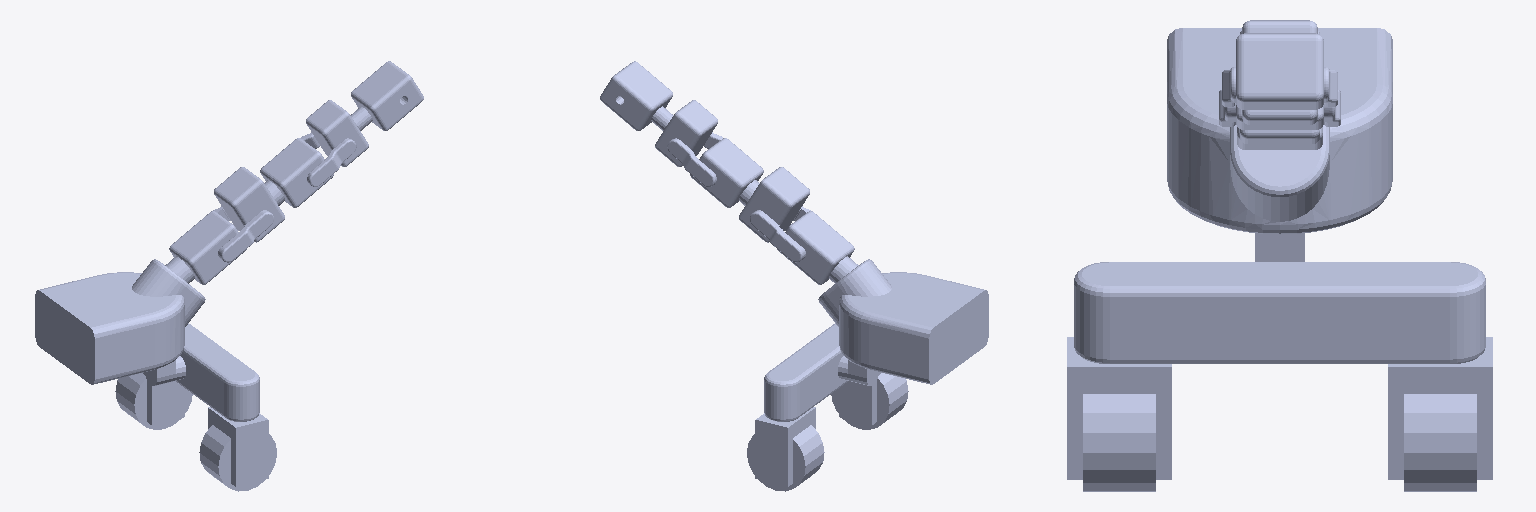
The robot description file, URDF, robot "LRM_ARM_60_0_1":
<?xml version="1.0" encoding="utf-8"?>
<!-- This URDF was automatically created by SolidWorks to URDF Exporter! Originally created by [author] ([email redacted]) 
     Commit Version: 1.6.0-4-g7f85cfe  Build Version: 1.6.7995.38578
     For more information, please see http://wiki.ros.org/sw_urdf_exporter -->
<robot
  name="LRM_ARM_60_0_1">
  <link
    name="base_link">
    <inertial>
      <origin
        xyz="-0.048104206841079 -4.90111673467908E-09 0.143557530418976"
        rpy="0 0 0" />
      <mass
        value="4.97178975391731" />
      <inertia
        ixx="0.0286525742966097"
        ixy="-5.05387354171124E-10"
        ixz="0.00709494743952162"
        iyy="0.0279823571540364"
        iyz="1.30205099336314E-09"
        izz="0.0260130342872084" />
    </inertial>
    <visual>
      <origin
        xyz="0 0 0"
        rpy="0 0 0" />
      <geometry>
        <mesh
          filename="package://meshes/base_link.STL" />
      </geometry>
      <material
        name="">
        <color
          rgba="0.792156862745098 0.819607843137255 0.933333333333333 1" />
      </material>
    </visual>
    <collision>
      <origin
        xyz="0 0 0"
        rpy="0 0 0" />
      <geometry>
        <mesh
          filename="package://meshes/base_link.STL" />
      </geometry>
    </collision>
  </link>
  <link
    name="link1">
    <inertial>
      <origin
        xyz="0 1.1102E-16 0.040987"
        rpy="0 0 0" />
      <mass
        value="0.17564" />
      <inertia
        ixx="0.00015754"
        ixy="-1.1079E-12"
        ixz="3.3034E-19"
        iyy="0.00014648"
        iyz="-6.7145E-20"
        izz="5.8551E-05" />
    </inertial>
    <visual>
      <origin
        xyz="0 0 0"
        rpy="0 0 0" />
      <geometry>
        <mesh
          filename="package://meshes/link1.STL" />
      </geometry>
      <material
        name="">
        <color
          rgba="0.79216 0.81961 0.93333 1" />
      </material>
    </visual>
    <collision>
      <origin
        xyz="0 0 0"
        rpy="0 0 0" />
      <geometry>
        <mesh
          filename="package://meshes/link1.STL" />
      </geometry>
    </collision>
  </link> 
  <joint
    name="joint1"
    type="revolute">
    <!--origin
      xyz="0 0 0.23432"
      rpy="0 0.7854 0" /-->
    <origin
      xyz="0 0 0.23432"
      rpy="0 1.0472 0" />
    <parent
      link="base_link" />
    <child
      link="link1" />
    <axis
      xyz="0 0 -1" />
    <limit
      lower="-1.7453"
      upper="1.7453"
      effort="4"
      velocity="0.12" />
  </joint>
  <link
    name="link2">
    <inertial>
      <origin
        xyz="-0.0088338 0.053407 1.8248E-08"
        rpy="0 0 0" />
      <mass
        value="0.16897" />
      <inertia
        ixx="0.00012053"
        ixy="1.0916E-05"
        ixz="1.3718E-11"
        iyy="0.00011686"
        iyz="4.5225E-11"
        izz="0.00012323" />
    </inertial>
    <visual>
      <origin
        xyz="0 0 0"
        rpy="0 0 0" />
      <geometry>
        <mesh
          filename="package://meshes/link2.STL" />
      </geometry>
      <material
        name="">
        <color
          rgba="0.79216 0.81961 0.93333 1" />
      </material>
    </visual>
    <collision>
      <origin
        xyz="0 0 0"
        rpy="0 0 0" />
      <geometry>
        <mesh
          filename="package://meshes/link2.STL" />
      </geometry>
    </collision>
  </link>
  <joint
    name="joint2"
    type="revolute"> <!-- 0.057205 -->
    <origin
      xyz="0 0 0.057205"
      rpy="1.5708 0 0" />
    <parent
      link="link1" />
    <child
      link="link2" />
    <axis
      xyz="0 0 1" />
    <limit
      lower="-1.7453"
      upper="1.7453"
      effort="4"
      velocity="0.12" />
  </joint>
  <link
    name="link3">
    <inertial> 
      <origin 
        xyz="-1.3878E-17 2.7756E-17 0.039326" 
        rpy="0 0 0" />
      <mass
        value="0.14908" />
      <inertia
        ixx="0.00010055"
        ixy="-1.1452E-12"
        ixz="1.135E-19"
        iyy="8.9207E-05"
        iyz="-3.4301E-20"
        izz="5.2789E-05" />
    </inertial>
    <visual>
      <origin
        xyz="0 0 0"
        rpy="0 0 0" />
      <geometry>
        <mesh
          filename="package://meshes/link3.STL" />
      </geometry>
      <material
        name="">
        <color
          rgba="0.79216 0.81961 0.93333 1" />
      </material>
    </visual>
    <collision>
      <origin
        xyz="0 0 0"
        rpy="0 0 0" />
      <geometry>
        <mesh
          filename="package://meshes/link3.STL" />
      </geometry>
    </collision>
  </link>
  <joint
    name="joint3" 
    type="revolute"> <!-- 0.08 -->
    <origin
      xyz="0 0.084805 0"
      rpy="-1.5708 0 0" />
    <parent
      link="link2" />
    <child
      link="link3" />
    <axis
      xyz="0 0 1" />
    <limit
      lower="-1.7453"
      upper="1.7453"
      effort="4"
      velocity="0.12" />
  </joint>
  <link
    name="link4"> 
    <inertial>
      <origin
        xyz="-0.005085 0.050535 -4.7282E-09"
        rpy="0 0 0" />
      <mass
        value="0.12789" />
      <inertia
        ixx="8.353E-05"
        ixy="4.6009E-06"
        ixz="7.7732E-12"
        iyy="7.3696E-05"
        iyz="-7.8057E-12"
        izz="8.0339E-05" />
    </inertial>
    <visual>
      <origin
        xyz="0 0 0"
        rpy="0 0 0" />
      <geometry>
        <mesh
          filename="package://meshes/link4.STL" />
      </geometry>
      <material
        name="">
        <color
          rgba="0.79216 0.81961 0.93333 1" />
      </material>
    </visual>
    <collision>
      <origin
        xyz="0 0 0"
        rpy="0 0 0" />
      <geometry>
        <mesh
          filename="package://meshes/link4.STL" />
      </geometry>
    </collision>
  </link>
  <joint
    name="joint4"
    type="revolute"> 
    <origin
      xyz="0 0 0.05207"
      rpy="1.5708 0 0" />
    <parent
      link="link3" />
    <child
      link="link4" />
    <axis
      xyz="0 0 -1" />
    <limit
      lower="-1.7453"
      upper="1.7453"
      effort="4"
      velocity="0.12" />
  </joint>
  <link
    name="link5">
    <inertial>
      <origin
        xyz="0 -2.7756E-17 0.041131"
        rpy="0 0 0" />
      <mass
        value="0.14106" />
      <inertia
        ixx="8.804E-05"
        ixy="-5.4409E-21"
        ixz="-1.6941E-20"
        iyy="7.669E-05"
        iyz="7.3341E-21"
        izz="5.1307E-05" />
    </inertial>
    <visual>
      <origin
        xyz="0 0 0"
        rpy="0 0 0" />
      <geometry>
        <mesh
          filename="package://meshes/link5.STL" />
      </geometry>
      <material
        name="">
        <color
          rgba="0.79216 0.81961 0.93333 1" />
      </material>
    </visual>
    <collision>
      <origin
        xyz="0 0 0"
        rpy="0 0 0" />
      <geometry>
        <mesh
          filename="package://meshes/link5.STL" />
      </geometry>
    </collision>
  </link>
  <joint
    name="joint5"
    type="revolute"> <!-- 0.07 -->
    <origin
      xyz="0 0.08822 0"
      rpy="-1.5708 0 0" />
    <parent
      link="link4" />
    <child
      link="link5" />
    <axis
      xyz="0 0 1" />
    <limit
      lower="-1.7453"
      upper="1.7453"
      effort="4"
      velocity="0.12" />
  </joint>
  <link
    name="link6">
    <inertial>
      <origin
        xyz="-0.0020164 0.062208 -2.7756E-17"
        rpy="0 0 0" />
      <mass
        value="0.10776" />
      <inertia
        ixx="0.00013214"
        ixy="-1.3313E-06"
        ixz="-1.4382E-20"
        iyy="6.5688E-05"
        iyz="1.8781E-20"
        izz="8.1577E-05" />
    </inertial>
    <visual>
      <origin
        xyz="0 0 0"
        rpy="0 0 0" />
      <geometry>
        <mesh
          filename="package://link6.STL" />
      </geometry>
      <material
        name="">
        <color
          rgba="0.79216 0.81961 0.93333 1" />
      </material>
    </visual>
    <collision>
      <origin
        xyz="0 0 0"
        rpy="0 0 0" />
      <geometry>
        <mesh
          filename="package://link6.STL" />
      </geometry>
    </collision>
  </link>
  <joint
    name="joint6"
    type="revolute">
    <origin
      xyz="0 0 0.05178"
      rpy="1.5708 0 0" />
    <parent
      link="link5" />
    <child
      link="link6" />
    <axis
      xyz="0 0 -1" />
    <limit
      lower="-1.7453"
      upper="1.7453"
      effort="4"
      velocity="0.12" />
  </joint>
  <link name="end_effector">
    <inertial>
        <origin xyz="0 0 0" rpy="0 0 0"/>
        <mass value="0.0"/>
        <inertia ixx="0.0" ixy="0.0" ixz="0.0" iyy="0.0" iyz="0.0" izz="0.0"/>
    </inertial>
    <visual>
        <origin xyz="0 0 0" rpy="0 0 0"/>
        <geometry>
            <sphere radius="0.0001"/>
        </geometry>
        <material name="blue">
            <color rgba="0 0 1 1"/>
        </material>
    </visual>
</link>
<joint name="dummy_joint" type="fixed">
    <origin xyz="0 0.13 0" rpy="-1.5708 0 0"/>
    <parent link="link6"/> <!-- Connect to the last link -->
    <child link="end_effector"/>
</joint>
</robot>

--- What the picture shows (computed from the rendered views, not written in the file) ---
Views: 3 orthographic renders of the robot side by side, from view 1: azimuth 30°, elevation 25°; view 2: azimuth 150°, elevation 25°; view 3: azimuth 270°, elevation 25°.
Robot: LRM_ARM_60_0_1 — 8 links, 7 joints (6 revolute, 1 fixed); root link base_link; default pose: all joints at 0.
Links seen in each view (by area): view 1: base_link, link2, link5, link4, link1, link3; view 2: base_link, link2, link5, link4, link1, link3; view 3: base_link, link5, link4, link2, link3, link1.
Boxes of the visible links, x1=… form: base_link: x1=35, y1=259, x2=276, y2=491; link2: x1=213, y1=167, x2=284, y2=262; link5: x1=350, y1=61, x2=423, y2=130; link4: x1=301, y1=100, x2=368, y2=186; link1: x1=165, y1=211, x2=246, y2=284; link3: x1=260, y1=138, x2=333, y2=207; base_link: x1=747, y1=259, x2=988, y2=491; link2: x1=739, y1=167, x2=810, y2=262; link5: x1=600, y1=61, x2=673, y2=130; link4: x1=655, y1=100, x2=722, y2=186; link1: x1=777, y1=211, x2=858, y2=284; link3: x1=690, y1=138, x2=763, y2=207; base_link: x1=1067, y1=28, x2=1492, y2=491; link5: x1=1236, y1=33, x2=1323, y2=109; link4: x1=1222, y1=20, x2=1337, y2=124; link2: x1=1219, y1=31, x2=1340, y2=143; link3: x1=1236, y1=105, x2=1323, y2=129; link1: x1=1237, y1=127, x2=1322, y2=149.
Bounding box of the posed robot: 0.5518 × 0.259 × 0.4665 m (x, y, z).
6 mesh visuals loaded from 6 distinct referenced files (6 binary STL); not drawn: 1 (reference in a form the renderer does not follow; not among the files counted above).
